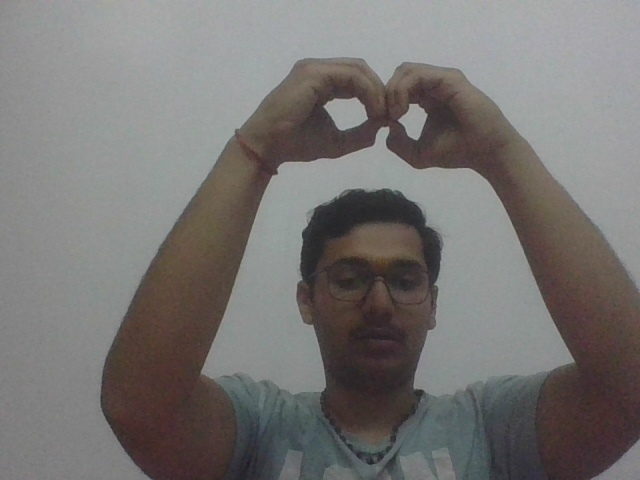B: (252, 53, 518, 178)
